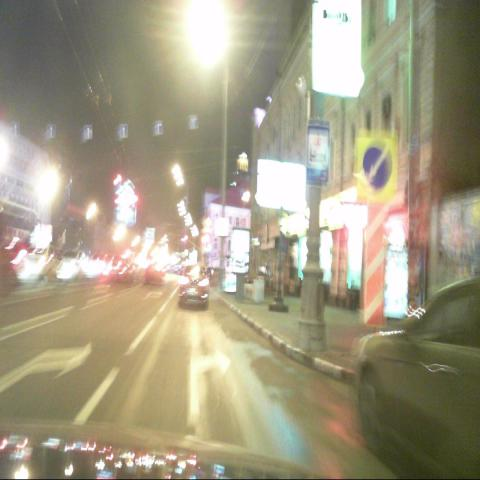4_2_2: (357, 130, 398, 199)
7_2: (306, 120, 332, 190)
